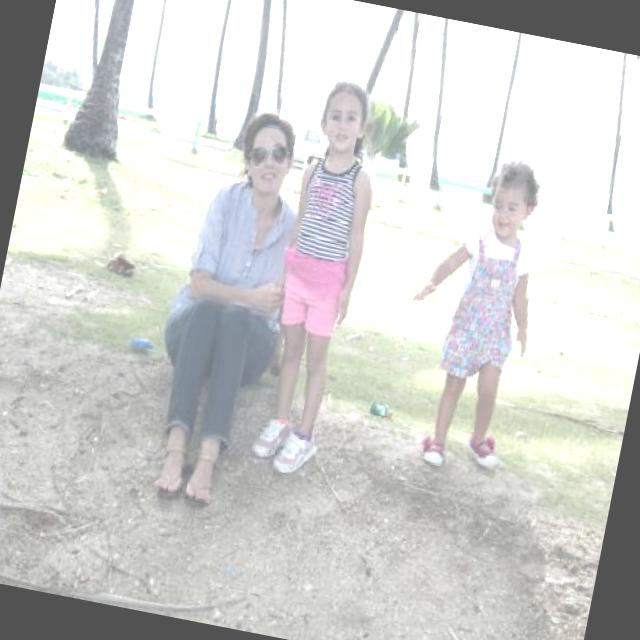Person: (132, 96, 326, 516), (240, 68, 396, 488), (381, 140, 565, 483)
